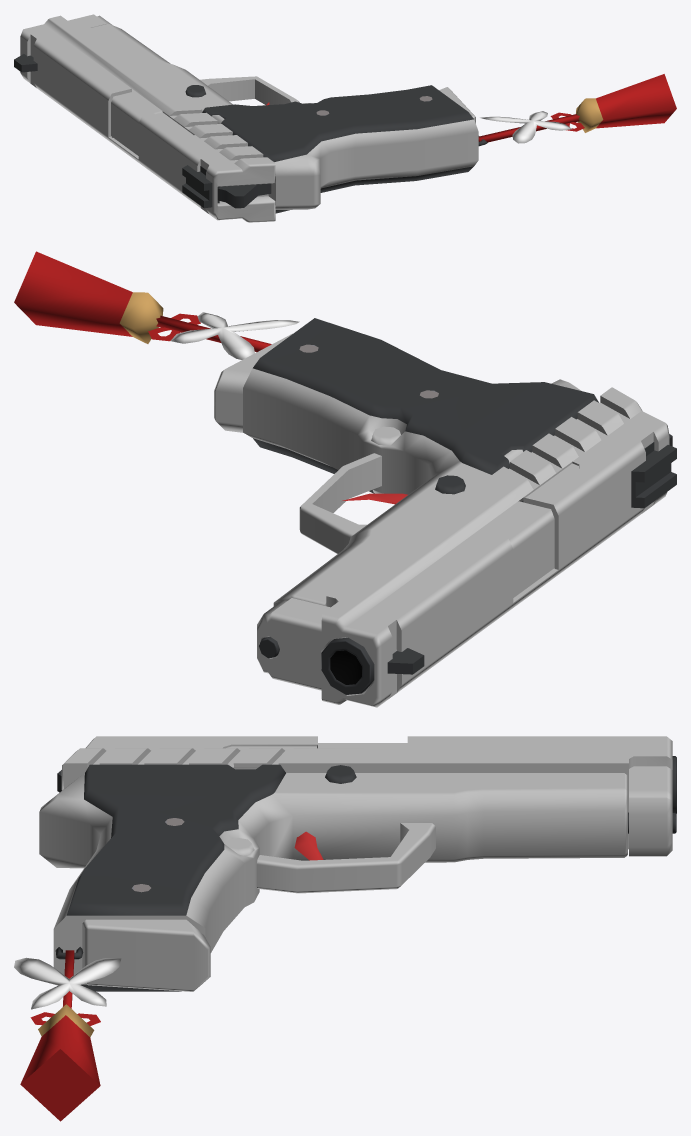
Rendered from ayane.glb.
3 views of the same model, one above another, from view 1: azimuth 30°, elevation 25°; view 2: azimuth 150°, elevation 25°; view 3: azimuth 270°, elevation 25° (orthographic). The views are drawn at different scales.
Visible parts, largest first — view 1: Ayane_Original_Weapon; view 2: Ayane_Original_Weapon; view 3: Ayane_Original_Weapon.
Boxes of the visible parts, bbox=[...] form: Ayane_Original_Weapon: bbox=[14, 14, 676, 222]; Ayane_Original_Weapon: bbox=[14, 251, 676, 707]; Ayane_Original_Weapon: bbox=[14, 736, 676, 1121].
Size of the model in its own units: 0.1946 by 0.0256 by 0.1676.
Materials: 1 (1 with a texture image).
